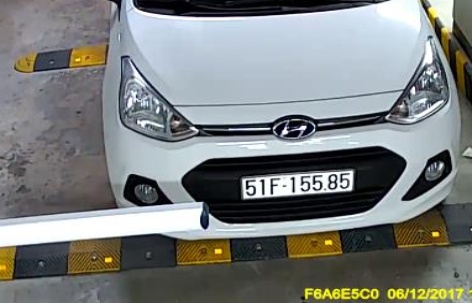plate: (241, 163, 357, 205)
